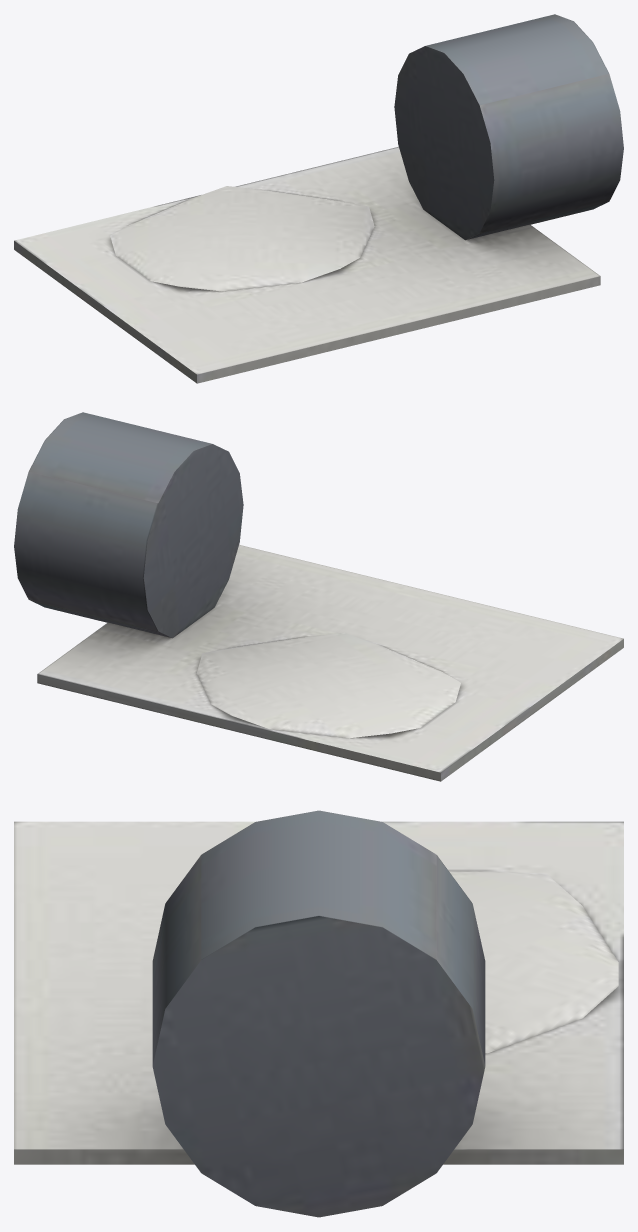
File: cubo_volcado.glb
The picture shows the model from 3 angles, top to bottom: view 1: azimuth 30°, elevation 25°; view 2: azimuth 150°, elevation 25°; view 3: azimuth 270°, elevation 25°; orthographic projection. The views are drawn at different scales.
Visible parts, largest first — view 1: cubo_volcado; view 2: cubo_volcado; view 3: cubo_volcado.
Part boxes in pixels (x1=…): cubo_volcado: x1=14, y1=14, x2=623, y2=383; cubo_volcado: x1=14, y1=412, x2=623, y2=781; cubo_volcado: x1=14, y1=810, x2=623, y2=1217.
Size of the model in its own units: 1.62 by 0.602 by 1.1.
Materials: 1 (1 with a texture image).
